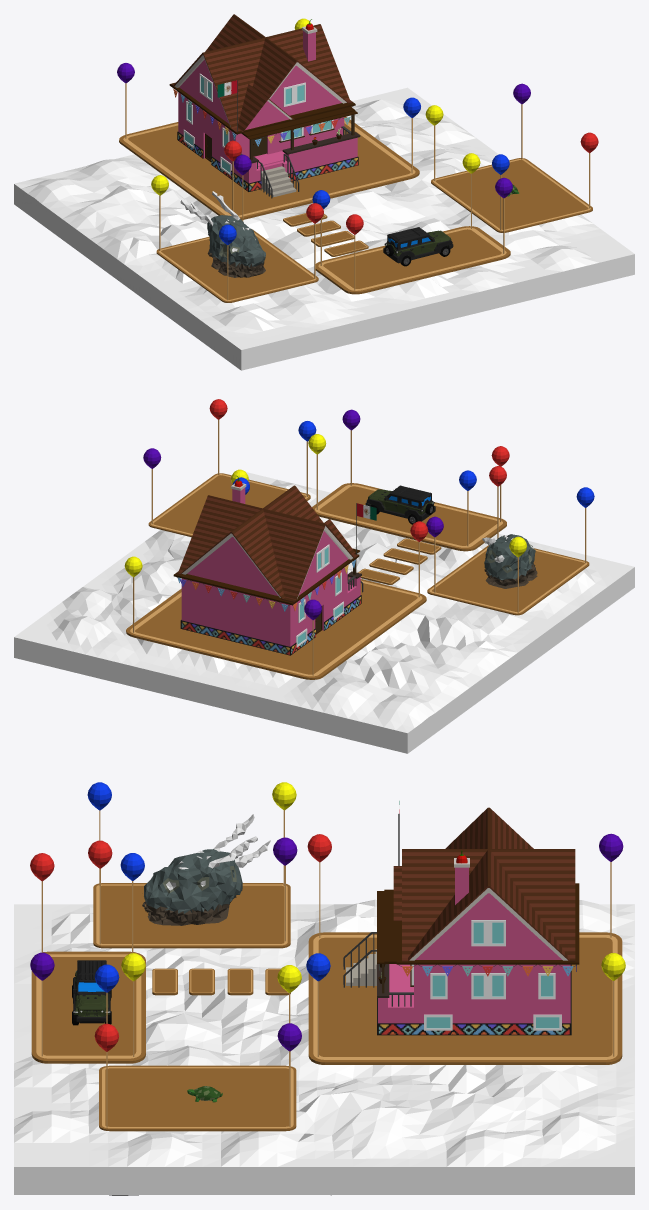
3 views of the same model, one above another, from view 1: azimuth 30°, elevation 25°; view 2: azimuth 150°, elevation 25°; view 3: azimuth 270°, elevation 25° (orthographic). The views are drawn at different scales.
Parts seen in each view (by area): view 1: Cube.013, Cube.1005, OBJRANDOM_METEORITE, VEHICLES_JEEP; view 2: Cube.013, Cube.1005, OBJRANDOM_METEORITE, VEHICLES_JEEP; view 3: Cube.013, Cube.1005, OBJRANDOM_METEORITE, VEHICLES_JEEP.
Boxes of the visible parts, bbox=[...] form: Cube.013: bbox=[14, 18, 634, 370]; Cube.1005: bbox=[169, 14, 360, 198]; OBJRANDOM_METEORITE: bbox=[180, 191, 265, 277]; VEHICLES_JEEP: bbox=[383, 227, 453, 266]; Cube.013: bbox=[14, 399, 634, 753]; Cube.1005: bbox=[173, 476, 376, 655]; OBJRANDOM_METEORITE: bbox=[482, 534, 537, 588]; VEHICLES_JEEP: bbox=[365, 485, 435, 524]; Cube.013: bbox=[14, 782, 634, 1194]; Cube.1005: bbox=[343, 801, 579, 1035]; OBJRANDOM_METEORITE: bbox=[142, 814, 270, 925]; VEHICLES_JEEP: bbox=[72, 960, 111, 1025].
Size of the model in its own units: 4000 by 1747 by 4000.
Materials: 71 (3 with a texture image).
